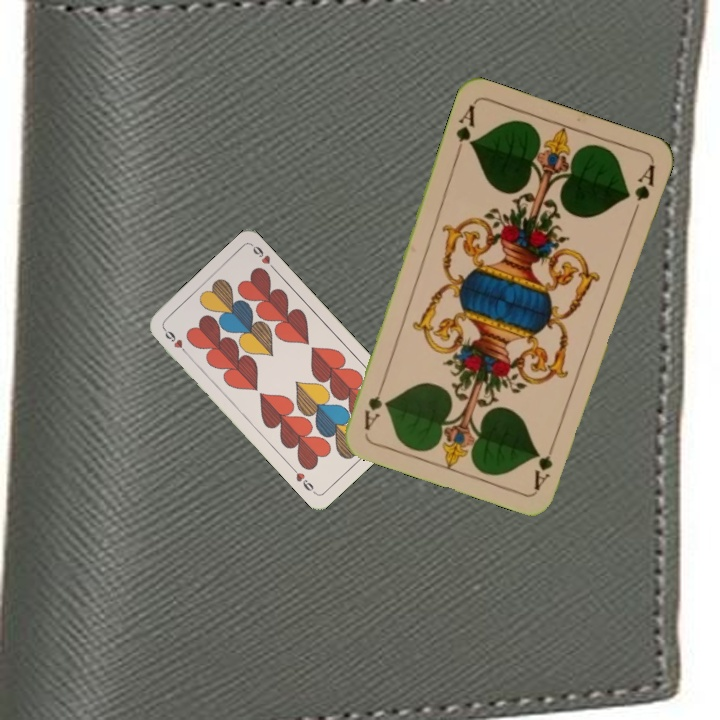GA: (530, 434, 559, 492), (451, 101, 478, 158)
H9: (160, 324, 190, 357)
